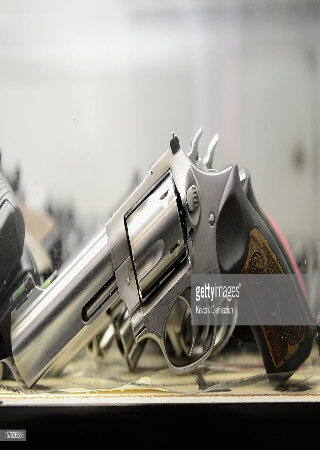handgun: (5, 126, 317, 390)
